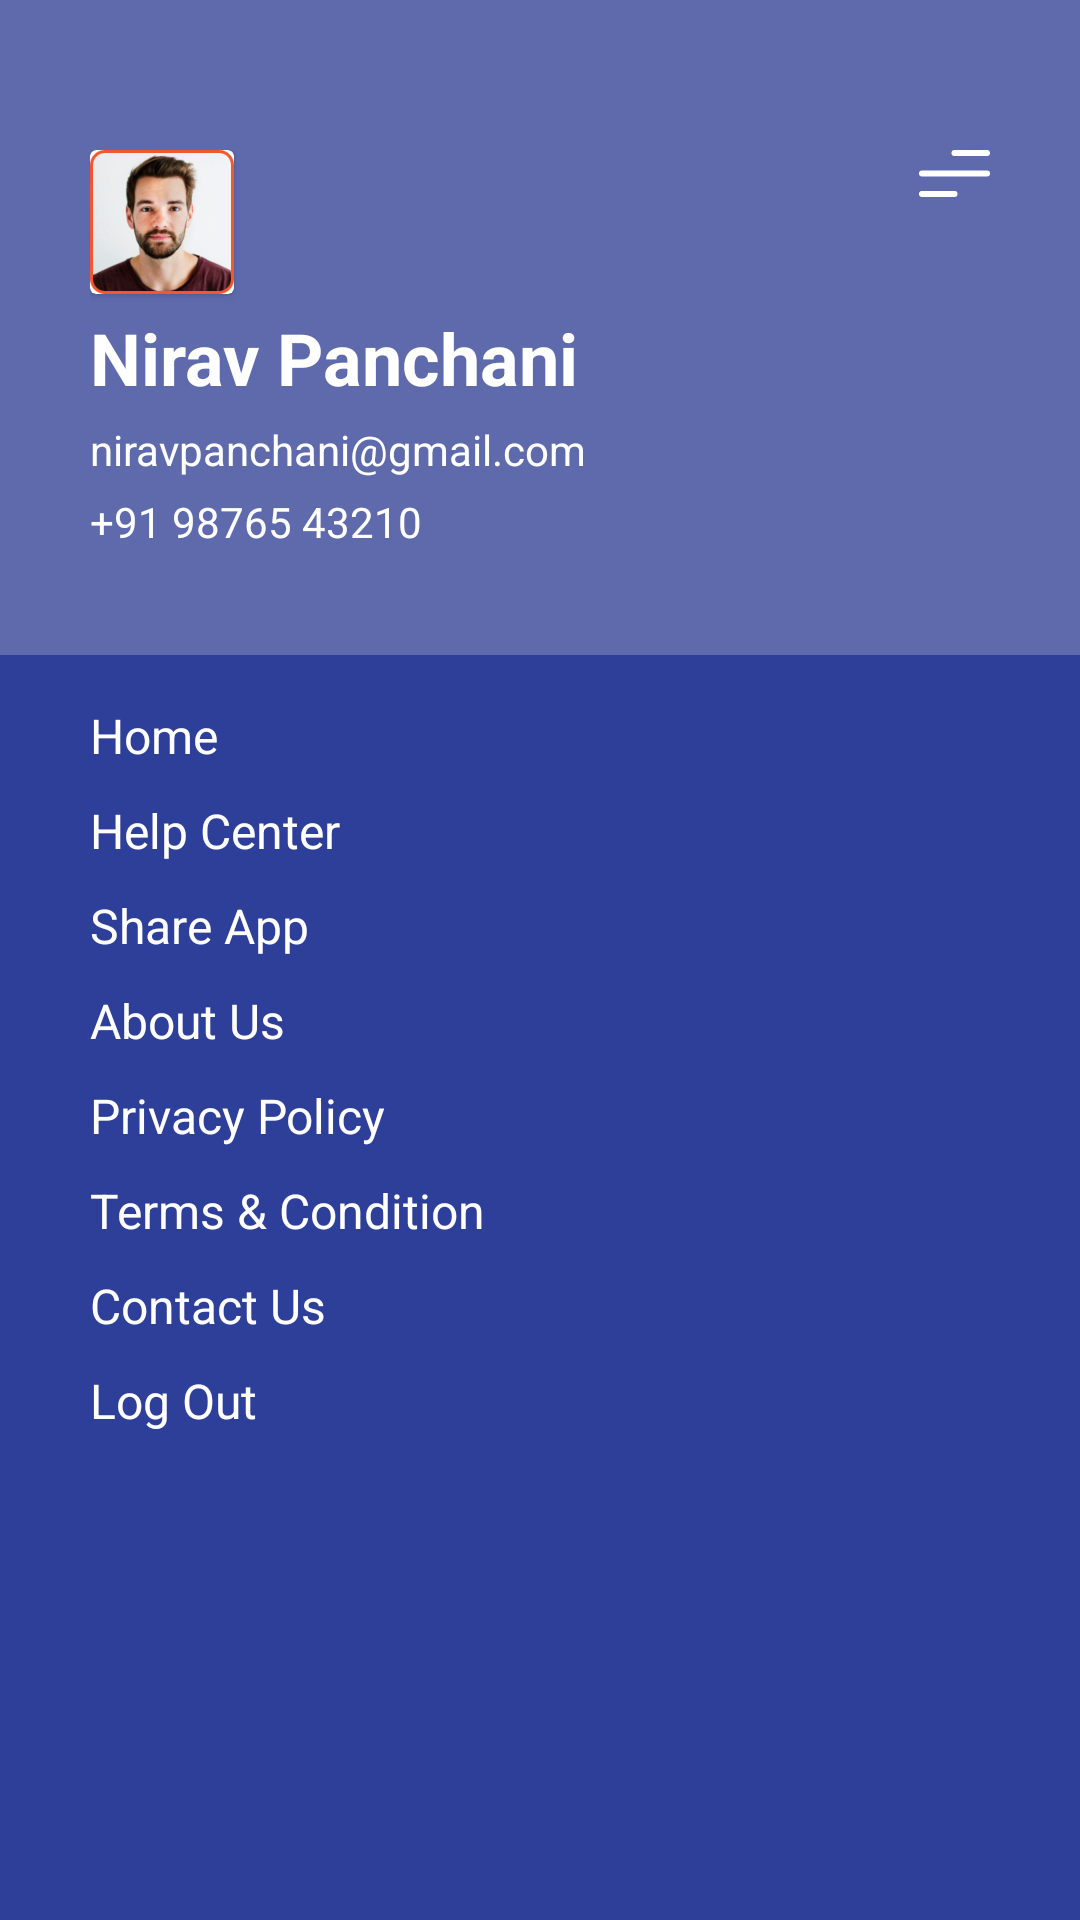

Icons on this 1080 × 1920 Android screen, each with its box as (left=x1, top=y1, right=x2, bottom=y2):
menu: (left=919, top=150, right=990, bottom=197)
profile: (left=90, top=150, right=234, bottom=294)
